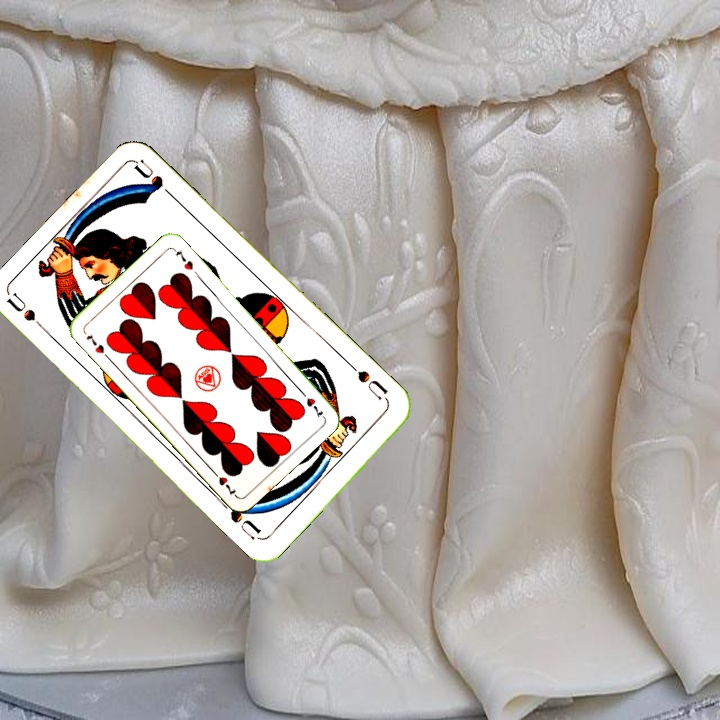H7: (296, 386, 326, 419), (82, 329, 107, 356)
SU: (4, 290, 53, 339), (345, 359, 392, 405)
